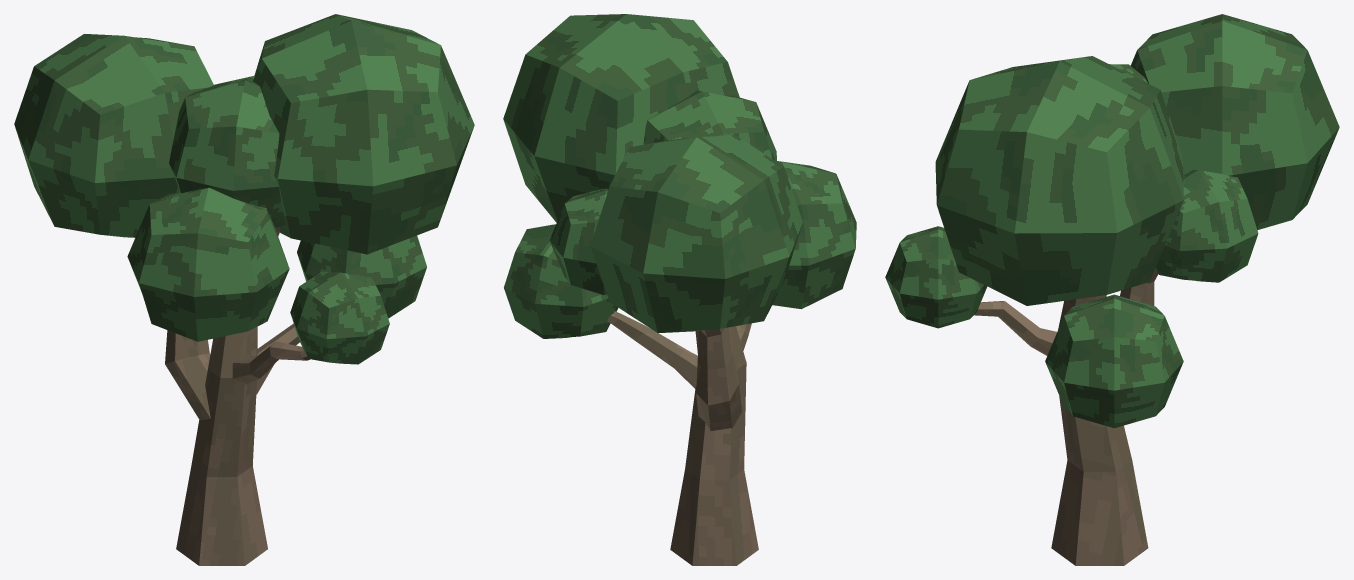
File: tree.fbx
3 views of the same model, side by side, from view 1: azimuth 30°, elevation 25°; view 2: azimuth 150°, elevation 25°; view 3: azimuth 270°, elevation 25° (orthographic). The views are drawn at different scales.
Visible parts, largest first — view 1: Cube.001, Cube, Cube.004, TREE, Cube.005, Cube.003, Cube.002; view 2: Cube, Cube.001, TREE, Cube.004, Cube.002, Cube.005, Cube.006; view 3: Cube.001, Cube, Cube.002, TREE, Cube.006, Cube.003.
Boxes of the visible parts, left/top/right/bottom form: Cube.001: left=253, top=14, right=474, bottom=254; Cube: left=14, top=34, right=213, bottom=237; Cube.004: left=127, top=187, right=289, bottom=341; TREE: left=165, top=227, right=309, bottom=565; Cube.005: left=169, top=76, right=285, bottom=227; Cube.003: left=290, top=271, right=389, bottom=364; Cube.002: left=297, top=235, right=426, bottom=318; Cube: left=590, top=135, right=802, bottom=333; Cube.001: left=503, top=14, right=739, bottom=222; TREE: left=607, top=311, right=758, bottom=565; Cube.004: left=772, top=161, right=856, bottom=309; Cube.002: left=504, top=224, right=618, bottom=338; Cube.005: left=643, top=90, right=776, bottom=161; Cube.006: left=549, top=188, right=608, bottom=294; Cube.001: left=935, top=56, right=1183, bottom=305; Cube: left=1130, top=14, right=1339, bottom=229; Cube.002: left=1045, top=294, right=1183, bottom=428; TREE: left=974, top=268, right=1158, bottom=565; Cube.006: left=1156, top=169, right=1258, bottom=282; Cube.003: left=885, top=226, right=987, bottom=328.
Size of the model in its own units: 873 by 1236 by 936.
4 materials, 4 textured.
